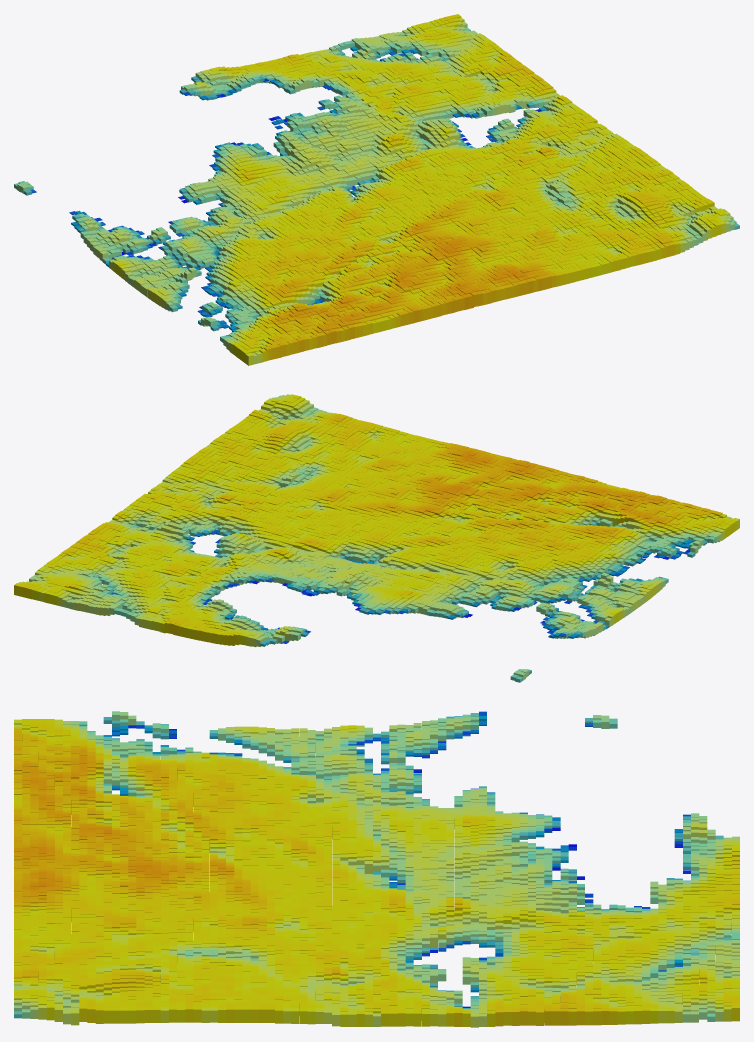
Rendered from population.glb.
3 views of the same model, one above another, from view 1: azimuth 30°, elevation 25°; view 2: azimuth 150°, elevation 25°; view 3: azimuth 270°, elevation 25° (orthographic). The views are drawn at different scales.
Visible parts, largest first — view 1: population; view 2: population; view 3: population.
Part boxes in pixels (x1,y1,x2,y2): population: (14,14,739,365); population: (14,394,739,682); population: (14,711,739,1027).
Bounding box in the file's own units: 8973 × 713 × 8912.
